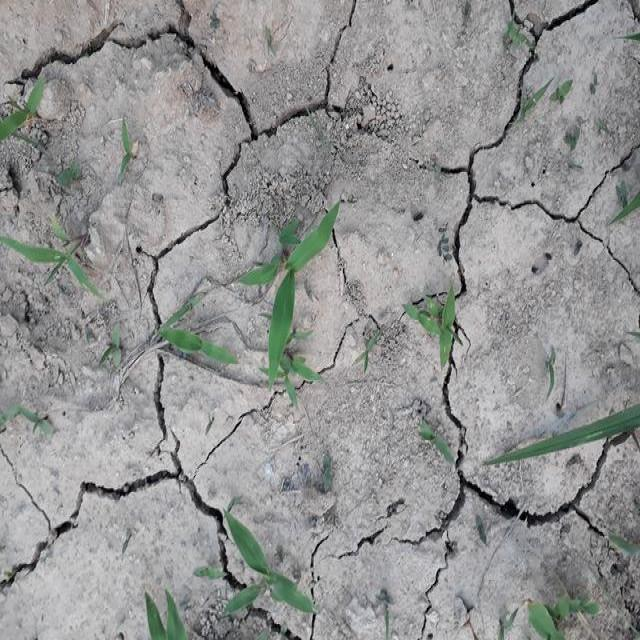weed: (144, 207, 352, 402)
